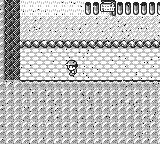leer: (101, 0, 116, 16)
main: (65, 61, 78, 75)
no-caminable: (0, 0, 159, 143), (118, 2, 159, 15), (85, 2, 99, 15)
salto: (20, 40, 160, 48)
